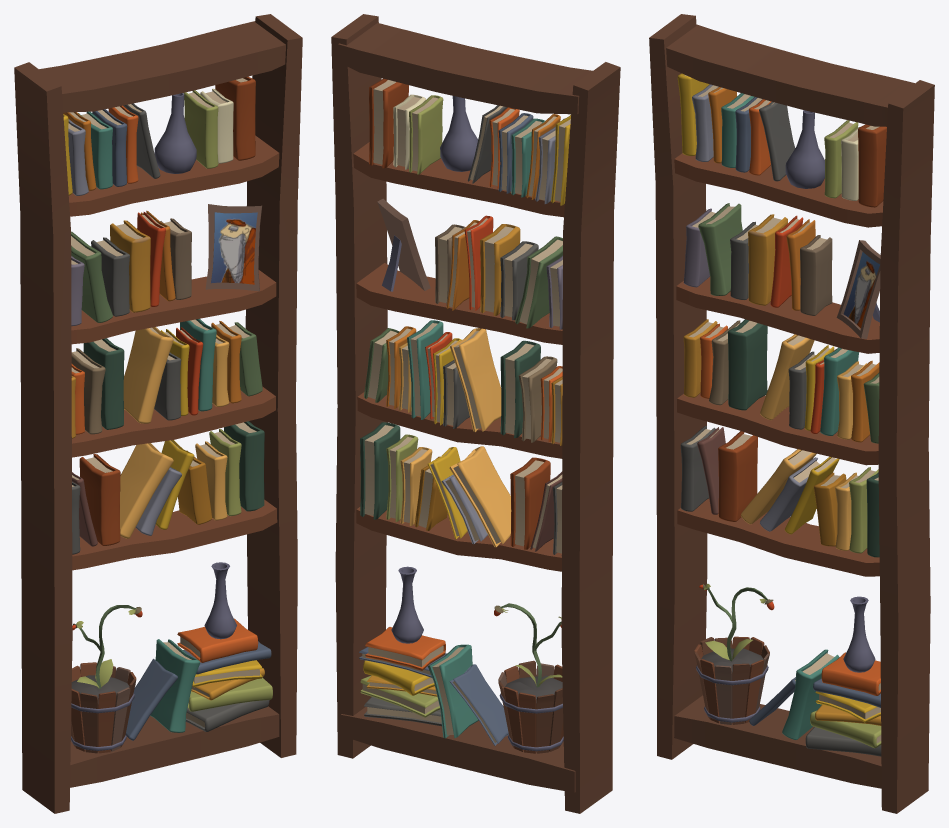
The model's file is P_bookshelf_01_LD.fbx.
3 views of the same model, side by side, from view 1: azimuth 30°, elevation 25°; view 2: azimuth 150°, elevation 25°; view 3: azimuth 330°, elevation 25° (orthographic).
Visible parts, largest first — view 1: P_bookshelf_01; view 2: P_bookshelf_01; view 3: P_bookshelf_01.
Boxes of the visible parts, x1,y1,x2,y2 form: P_bookshelf_01: (14, 14, 302, 813); P_bookshelf_01: (331, 14, 620, 813); P_bookshelf_01: (649, 14, 934, 813).
Size of the model in its own units: 87.15 by 236 by 23.69.
